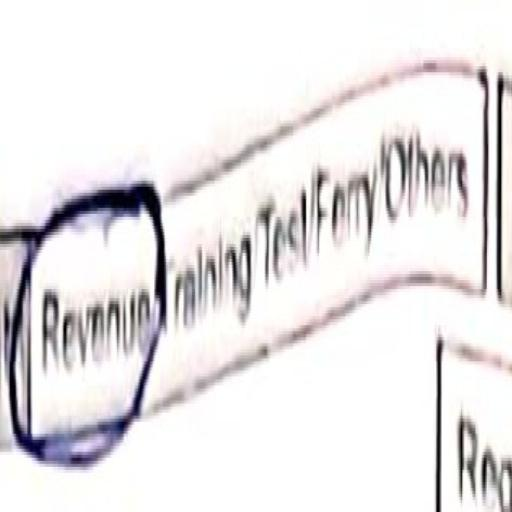check: (13, 151, 159, 460)
